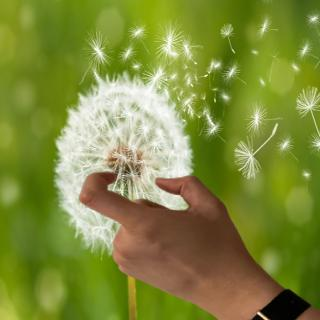HATE: (74, 162, 254, 310)
